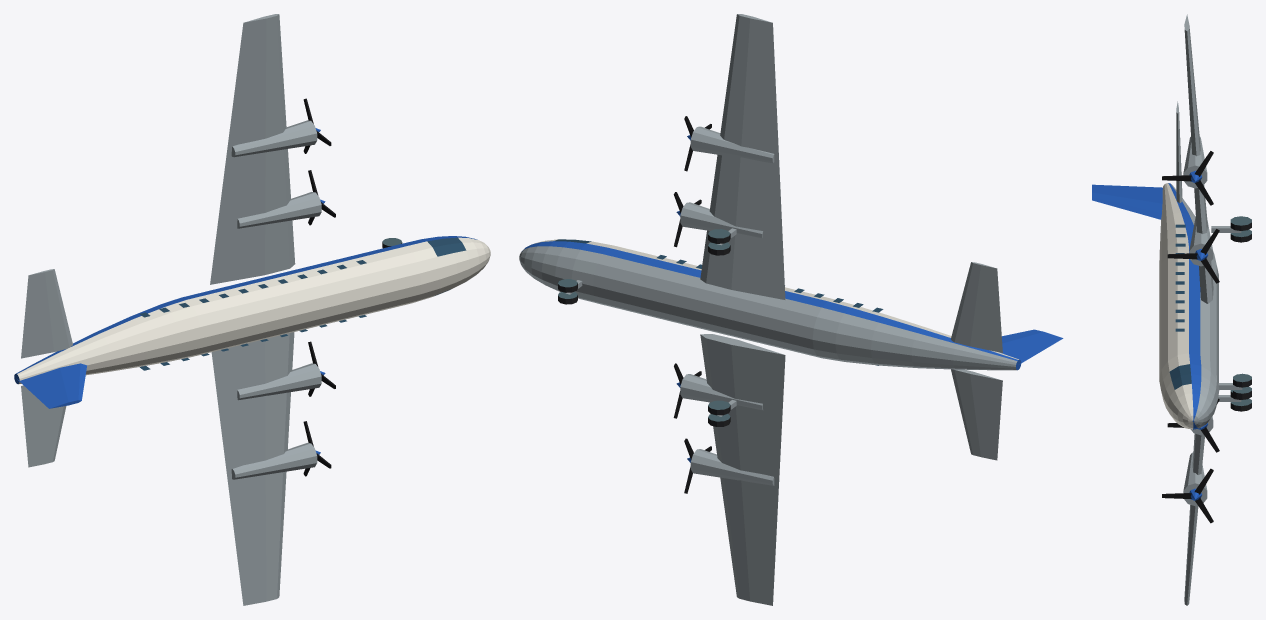
3 renders of one model, left to right at view 1: azimuth 30°, elevation 25°; view 2: azimuth 150°, elevation 25°; view 3: azimuth 270°, elevation 25°, orthographic.
Parts seen in each view (by area): view 1: default_fuselage, default_wing1, default_wing-1, default_tailplane1, default_tailplane-1, default_fin1, default_engine4.7-1, default_engine4.71, default_engine2.5-1, default_engine2.51; view 2: default_fuselage, default_wing1, default_wing-1, default_tailplane1, default_tailplane-1, default_engine4.71, default_engine4.7-1, default_fin1, default_engine2.51, default_engine2.5-1; view 3: default_fuselage, default_wing1, default_fin1, default_wing-1, default_engine4.71, default_engine4.7-1, default_engine2.51, default_tailplane1, default_windows1, default_main1_wheel0.17, default_nose_gear_wheel0.17.
Boxes of the visible parts, x1,y1,x2,y2 form: default_fuselage: [14, 236, 490, 384]; default_wing1: [210, 14, 295, 284]; default_wing-1: [211, 332, 294, 605]; default_tailplane1: [21, 269, 72, 358]; default_tailplane-1: [21, 385, 66, 467]; default_fin1: [17, 363, 87, 408]; default_engine4.7-1: [231, 443, 317, 479]; default_engine4.71: [231, 120, 317, 157]; default_engine2.5-1: [237, 363, 321, 400]; default_engine2.51: [237, 192, 321, 228]; default_fuselage: [519, 239, 1021, 370]; default_wing1: [700, 14, 785, 299]; default_wing-1: [700, 334, 785, 605]; default_tailplane1: [950, 262, 1002, 352]; default_tailplane-1: [951, 369, 1002, 460]; default_engine4.71: [690, 126, 774, 163]; default_engine4.7-1: [690, 449, 774, 485]; default_fin1: [999, 329, 1063, 364]; default_engine2.51: [680, 202, 763, 238]; default_engine2.5-1: [680, 374, 762, 410]; default_fuselage: [1159, 183, 1219, 429]; default_wing1: [1184, 14, 1213, 303]; default_fin1: [1092, 184, 1162, 219]; default_wing-1: [1184, 433, 1204, 605]; default_engine4.71: [1183, 136, 1207, 188]; default_engine4.7-1: [1183, 452, 1207, 506]; default_engine2.51: [1189, 216, 1213, 266]; default_tailplane1: [1176, 101, 1182, 203]; default_windows1: [1175, 224, 1185, 331]; default_main1_wheel0.17: [1230, 216, 1251, 230]; default_nose_gear_wheel0.17: [1233, 373, 1251, 387].
Bounding box in the file's own units: 15 × 17 × 4.29.
